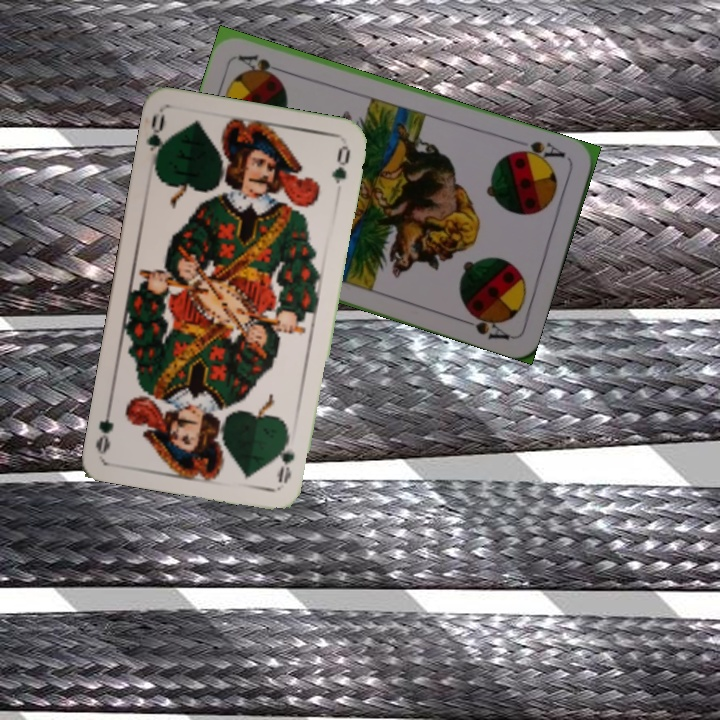GO: (143, 110, 172, 170), (274, 427, 297, 486)
SA: (510, 137, 568, 167)
